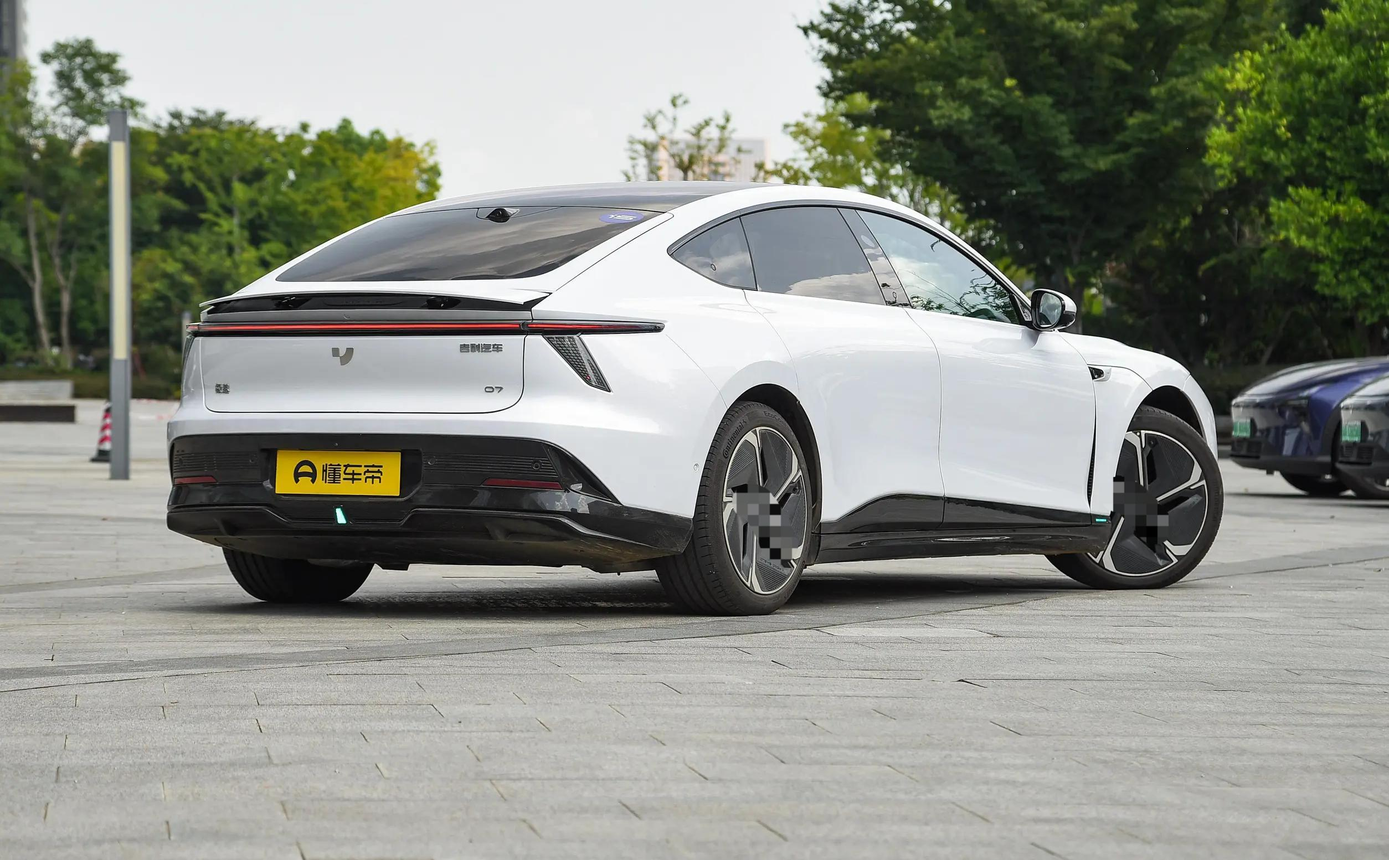JIYUE: (331, 346, 355, 367)
